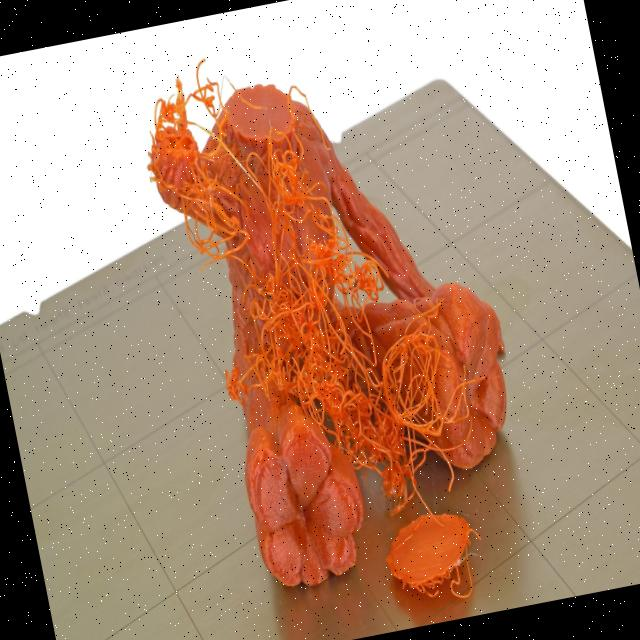spaghetti: (123, 22, 478, 549)
